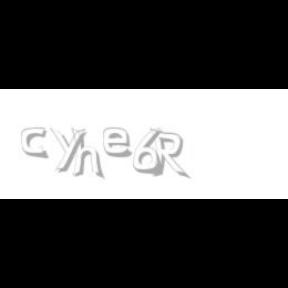6: (132, 128, 162, 176)
R: (149, 128, 187, 180)
c: (20, 128, 50, 160)
e: (104, 128, 136, 158)
h: (72, 128, 106, 180)
y: (50, 128, 90, 172)
